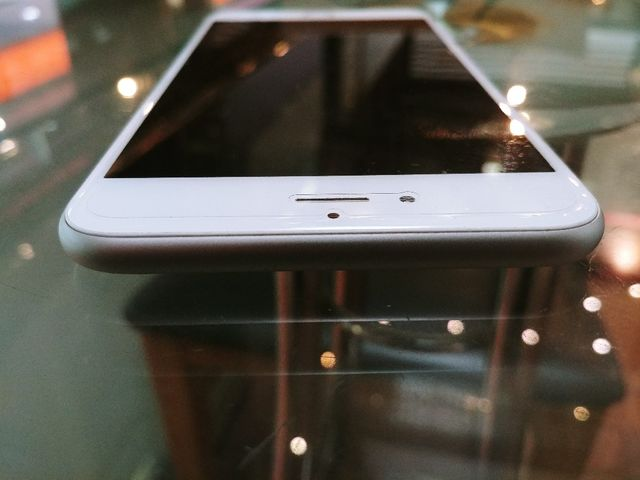phone: (52, 1, 611, 278)
